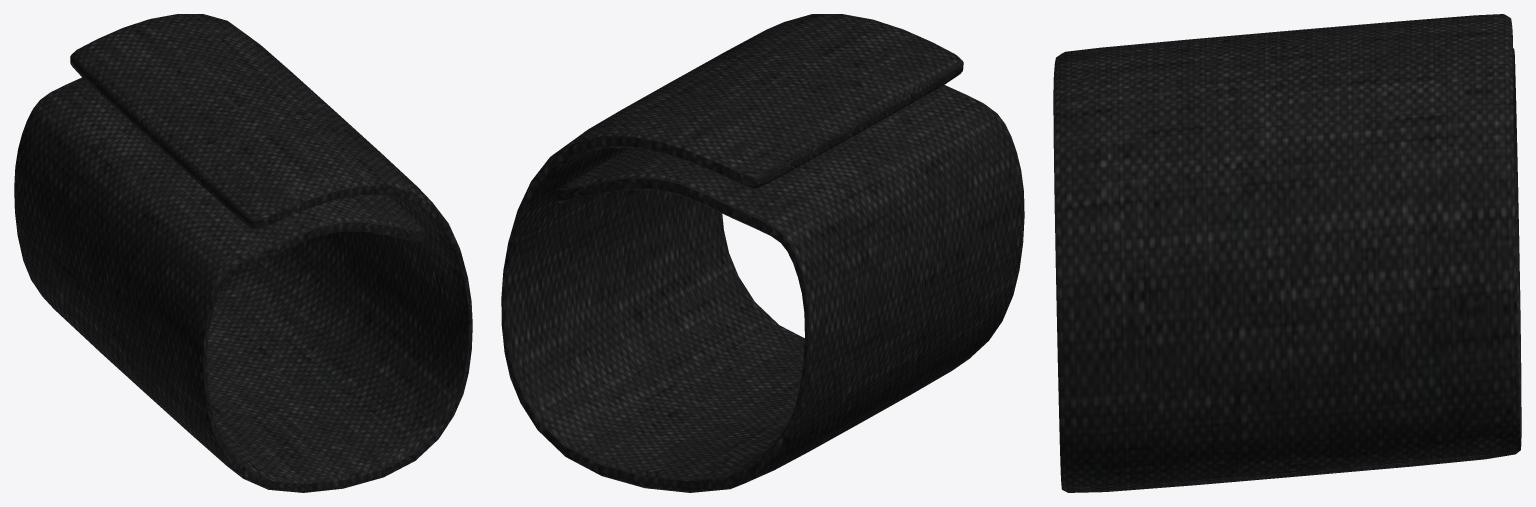
The model's file is nibp_cuff.glb.
3 views of the same model, side by side, from view 1: azimuth 30°, elevation 25°; view 2: azimuth 150°, elevation 25°; view 3: azimuth 270°, elevation 25° (orthographic). The views are drawn at different scales.
Visible parts, largest first — view 1: nibp_cuff_fabric; view 2: nibp_cuff_fabric; view 3: nibp_cuff_fabric.
Part boxes in pixels (x1,y1,x2,y2): nibp_cuff_fabric: [14, 14, 472, 492]; nibp_cuff_fabric: [501, 14, 1024, 492]; nibp_cuff_fabric: [1053, 14, 1521, 492].
Bounding box in the file's own units: 0.1153 × 0.1362 × 0.1398.
1 material, 1 textured.
